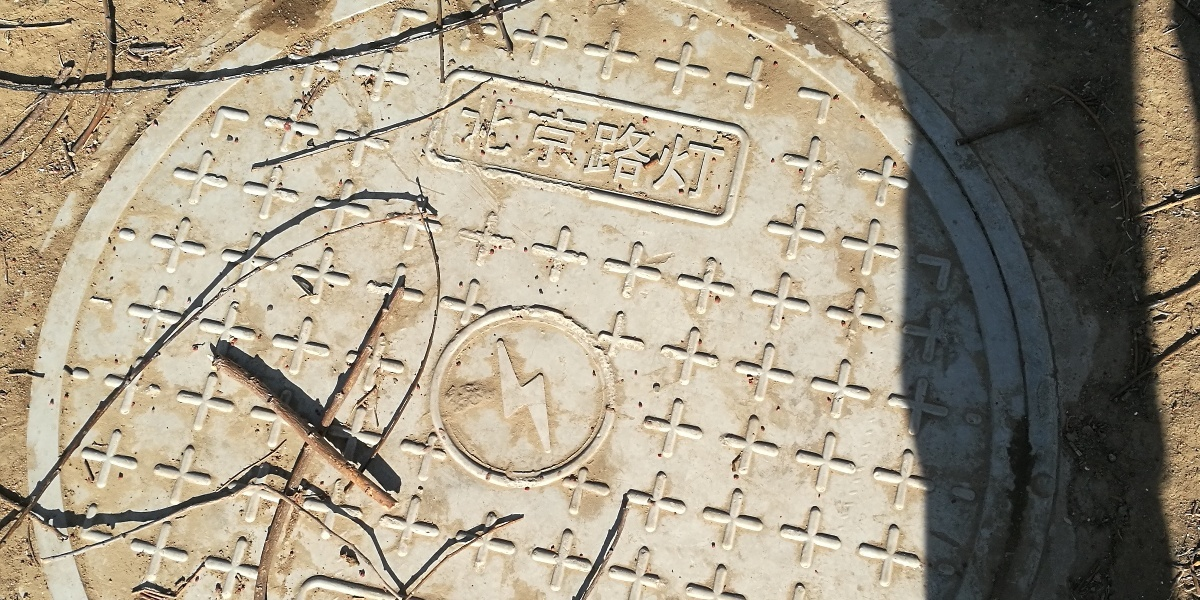text: (481, 85, 496, 208), (497, 85, 512, 208), (513, 85, 528, 208), (529, 85, 544, 208), (545, 85, 560, 208), (561, 85, 576, 208), (577, 85, 592, 208), (593, 85, 608, 208), (609, 85, 624, 208), (625, 85, 640, 208), (641, 85, 656, 208), (657, 85, 672, 208), (673, 85, 688, 208), (689, 85, 704, 208), (705, 85, 720, 208), (468, 85, 480, 208), (721, 85, 726, 208)
